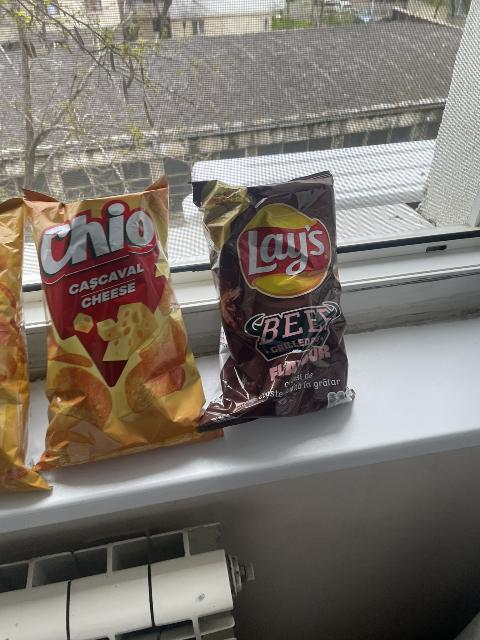Chio Cascaval 125g: (19, 179, 221, 463)
Chio Hula Hoops Cheese 70g: (0, 200, 51, 490)
Lays Beef Grilled Ribs 125g: (197, 173, 356, 421)
